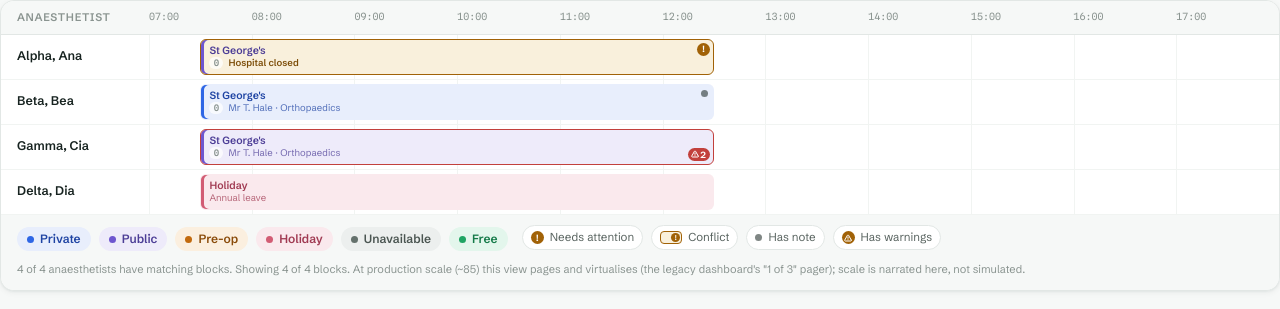
Test: DayGrid filters › lets status pills hide and restore matching rows
The image size is (1280, 309).
Expected: the button "St George's 0 Mr T. Hale · Orthopaedics" is shown, [200, 84, 714, 120]
Click the button with aria-label "Private status". click: [54, 238]
box: [17, 224, 91, 251]
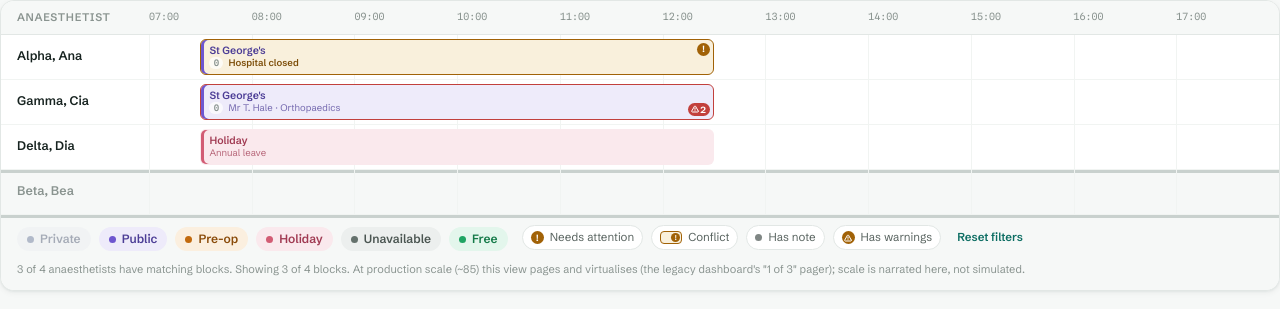
Expected: the text "Beta, Bea" is shown, [17, 183, 74, 198]
Expected: the text "3 of 4 anaesthetists have matching blocks. Showing 3 of 4 blocks." is shown, [1, 261, 1279, 290]
Click the button with aria-label "Private status". click: [54, 238]
box: [17, 224, 91, 251]
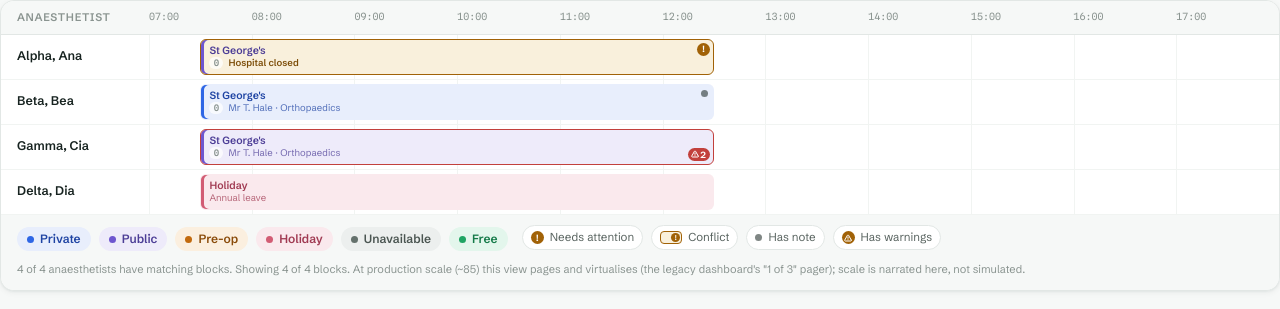
Expected: the button "St George's 0 Mr T. Hale · Orthopaedics" is shown, [200, 84, 714, 120]
